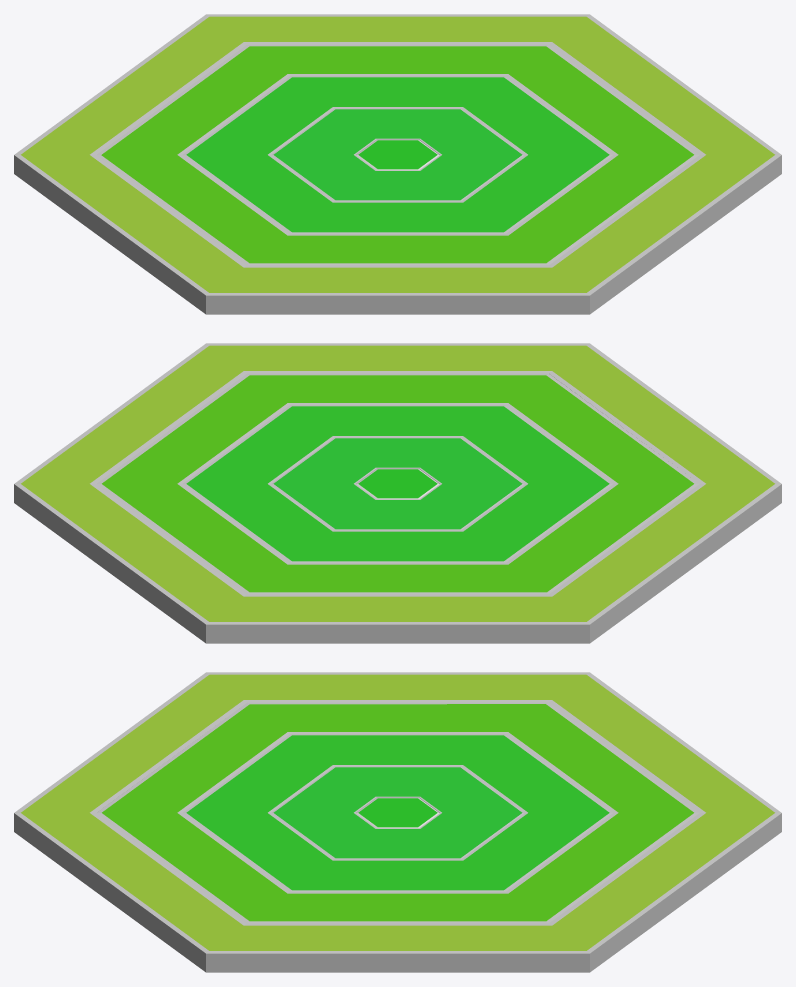
The model's file is DiscoLevel01.fbx.
The picture shows the model from 3 angles, top to bottom: view 1: azimuth 30°, elevation 25°; view 2: azimuth 150°, elevation 25°; view 3: azimuth 270°, elevation 25°; orthographic projection.
Visible parts, largest first — view 1: Cylinder.008, Cylinder.007, Cylinder.006, Cylinder.005, Cylinder; view 2: Cylinder.008, Cylinder.007, Cylinder.006, Cylinder.005, Cylinder; view 3: Cylinder.008, Cylinder.007, Cylinder.006, Cylinder.005, Cylinder.
Boxes of the visible parts, bbox=[...] form: Cylinder.008: bbox=[14, 14, 781, 314]; Cylinder.007: bbox=[97, 44, 698, 265]; Cylinder.006: bbox=[183, 76, 612, 233]; Cylinder.005: bbox=[271, 108, 524, 201]; Cylinder: bbox=[356, 140, 439, 170]; Cylinder.008: bbox=[14, 343, 781, 643]; Cylinder.007: bbox=[97, 373, 698, 594]; Cylinder.006: bbox=[183, 405, 612, 562]; Cylinder.005: bbox=[271, 437, 524, 530]; Cylinder: bbox=[356, 469, 439, 499]; Cylinder.008: bbox=[14, 672, 781, 972]; Cylinder.007: bbox=[97, 702, 698, 923]; Cylinder.006: bbox=[183, 734, 612, 891]; Cylinder.005: bbox=[271, 766, 524, 859]; Cylinder: bbox=[356, 798, 439, 828].
Size of the model in its own units: 15.74 by 0.5 by 18.17.
